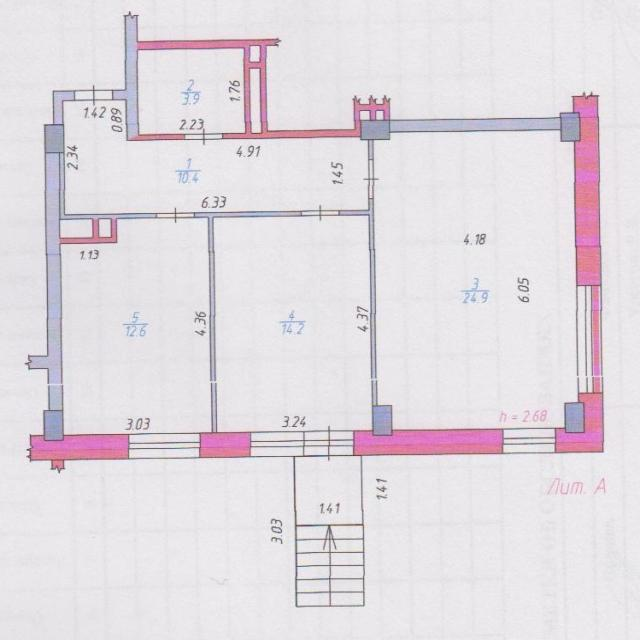Corridors: (64, 100, 369, 214)
Doors: (305, 425, 353, 461), (75, 84, 113, 106), (362, 160, 380, 199), (185, 129, 223, 146), (302, 205, 339, 222), (156, 207, 195, 223)
LBwalls: (573, 95, 603, 286), (353, 430, 501, 455), (556, 395, 604, 454), (30, 434, 129, 461), (201, 432, 250, 458)
Offices: (375, 133, 576, 428), (214, 216, 373, 432), (62, 218, 211, 433), (138, 49, 244, 134)
Stairs: (294, 457, 366, 608)
Walls: (112, 15, 574, 141), (27, 90, 156, 434), (194, 211, 301, 432), (339, 199, 378, 430), (368, 133, 373, 159)
Windows: (575, 286, 603, 394), (127, 433, 202, 459), (250, 431, 305, 458), (501, 427, 556, 453)
